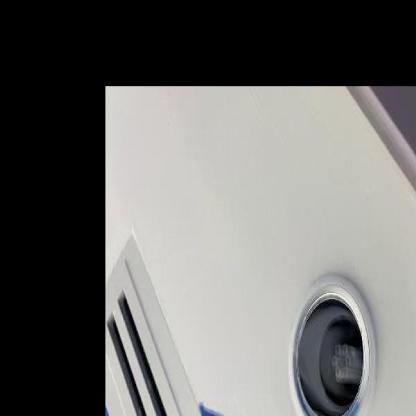light_off: (278, 256, 386, 415)
